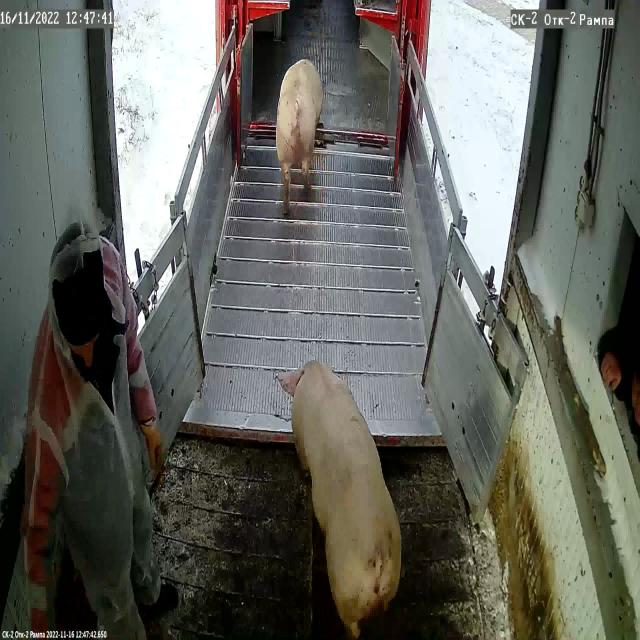pig: (277, 363, 402, 640), (276, 60, 323, 216)
